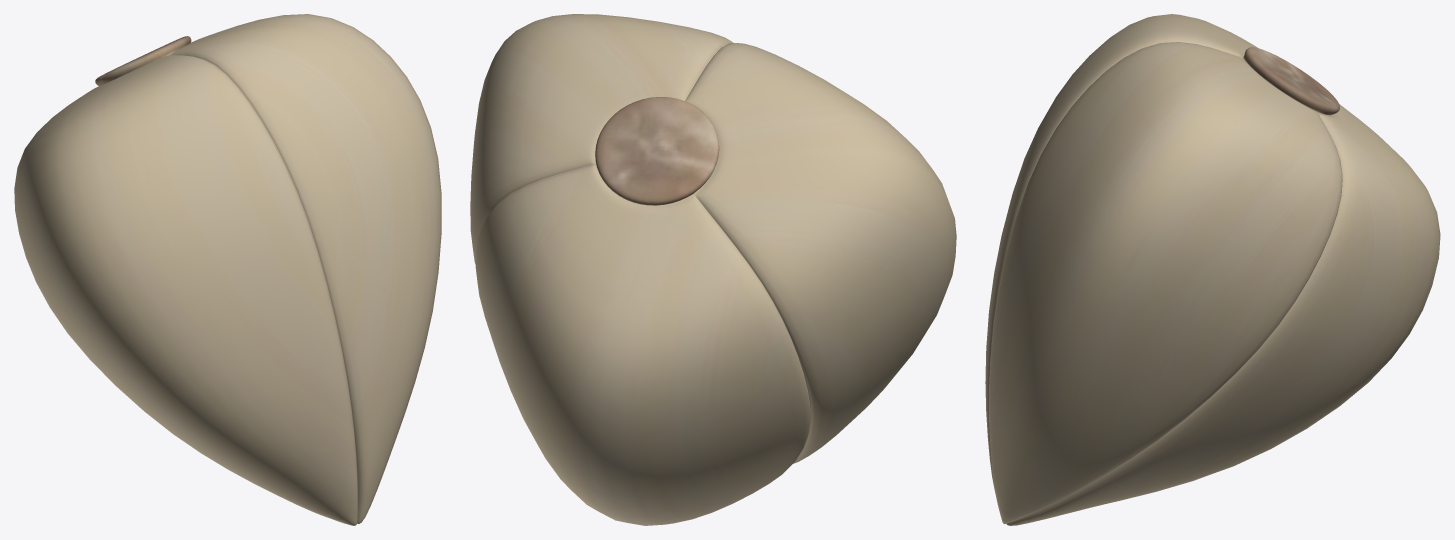
The model's file is GrainBuckwheat044.obj.
The picture shows the model from 3 angles, left to right: view 1: azimuth 30°, elevation 25°; view 2: azimuth 150°, elevation 25°; view 3: azimuth 270°, elevation 25°; orthographic projection. The views are drawn at different scales.
Visible parts, largest first — view 1: GrainBuckwheat044; view 2: GrainBuckwheat044; view 3: GrainBuckwheat044.
Boxes of the visible parts, <box> form: GrainBuckwheat044: <box>14,14,441,525</box>; GrainBuckwheat044: <box>470,14,956,525</box>; GrainBuckwheat044: <box>985,14,1440,525</box>.
Size of the model in its own units: 0.0266 by 0.0296 by 0.0267.
Materials: 1 (1 with a texture image).
